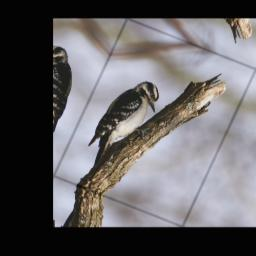Woodpecker: (75, 63, 171, 180)
